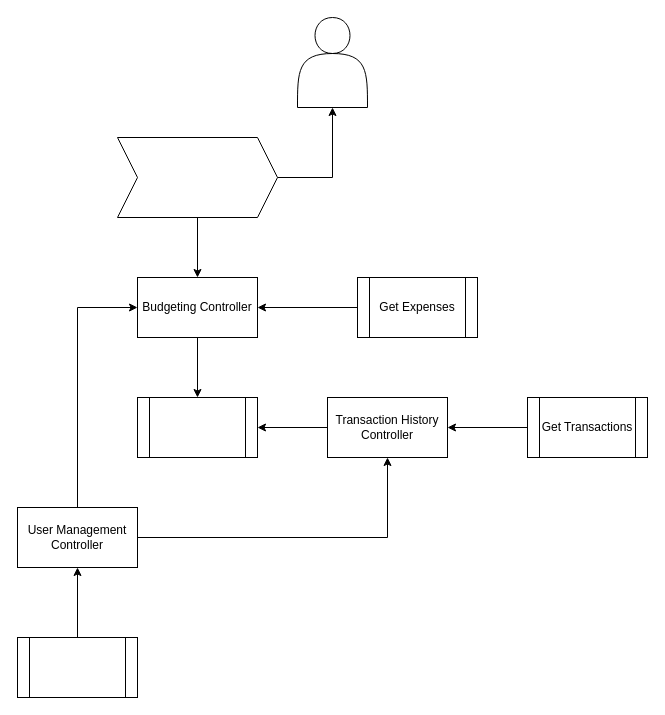
Image size: 665x715. Some labels were removed from this diagram. The shapes that lost their labels are listed below. From the top down, each one's centre as x and y in pixels, then its label:
At (x=197, y=177): "Change Budget View".
At (x=197, y=427): "Update All Expenses".
At (x=77, y=667): "Get Profile".
